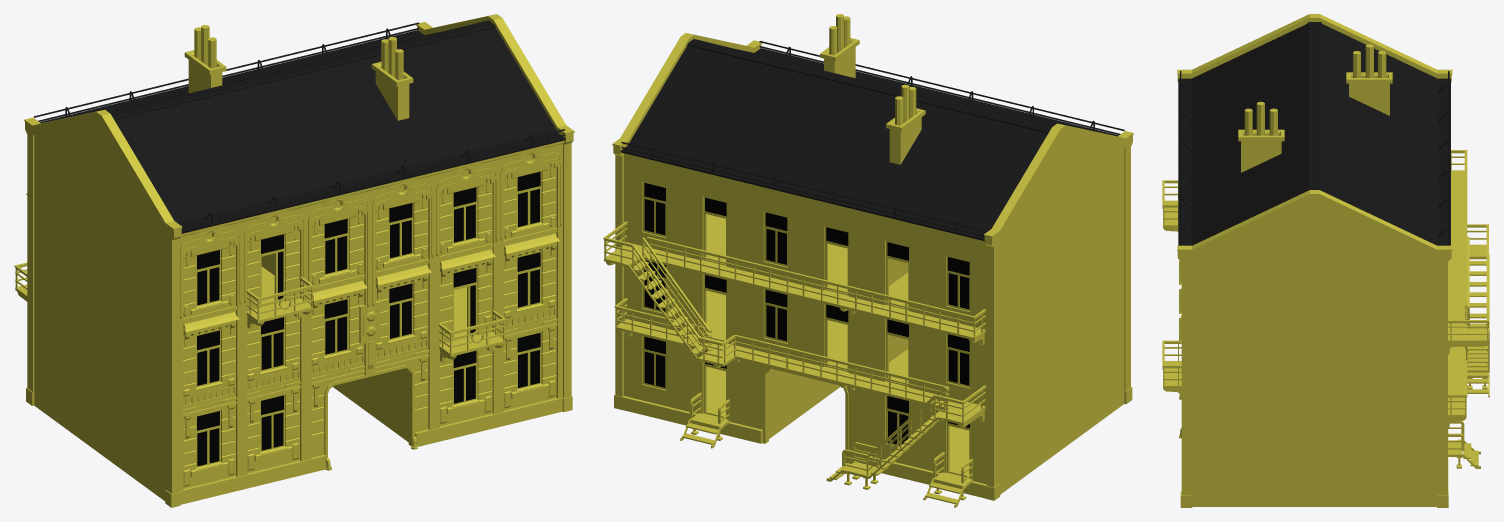
Rendered from SM_eighth_house_2.fbx.
The picture shows the model from 3 angles, left to right: view 1: azimuth 30°, elevation 25°; view 2: azimuth 150°, elevation 25°; view 3: azimuth 270°, elevation 25°; orthographic projection. The views are drawn at different scales.
Visible parts, largest first — view 1: Cylinder; view 2: Cylinder; view 3: Cylinder.
Part boxes in pixels (left/top/right/bottom): Cylinder: left=14, top=14, right=574, bottom=507; Cylinder: left=603, top=14, right=1133, bottom=507; Cylinder: left=1162, top=14, right=1489, bottom=507.
Bounding box in the file's own units: 1564 × 1390 × 1201.
